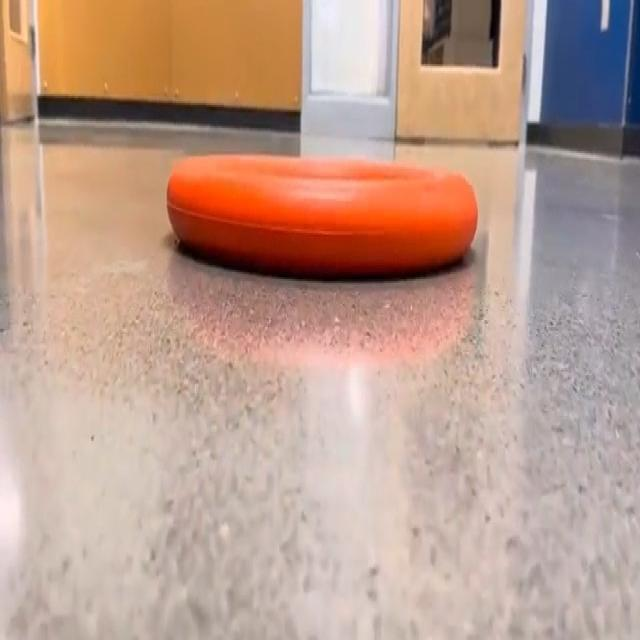note: (168, 156, 478, 277)
